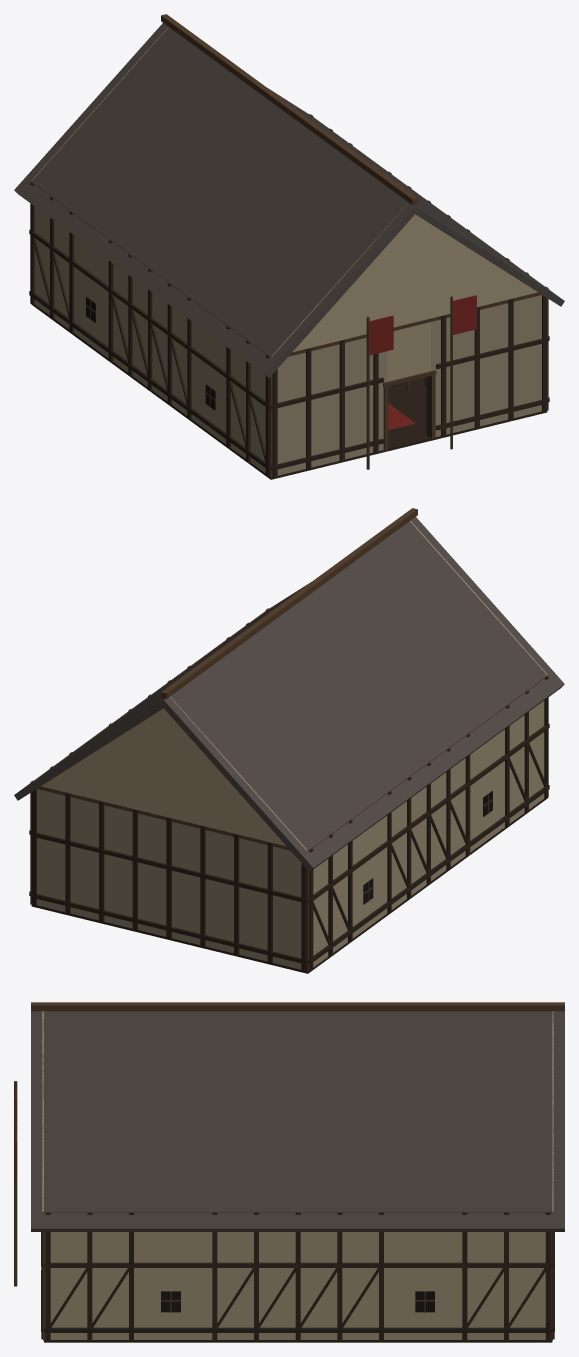
File: walk_hallowed_hall.glb
The picture shows the model from 3 angles, top to bottom: view 1: azimuth 30°, elevation 25°; view 2: azimuth 150°, elevation 25°; view 3: azimuth 270°, elevation 25°; orthographic projection. The views are drawn at different scales.
Parts seen in each view (by area): view 1: walk_hallowed_hall_roof, walk_hallowed_hall; view 2: walk_hallowed_hall_roof, walk_hallowed_hall; view 3: walk_hallowed_hall_roof, walk_hallowed_hall.
Part boxes in pixels (left/top/right/bottom): walk_hallowed_hall_roof: left=14, top=14, right=564, bottom=377; walk_hallowed_hall: left=29, top=113, right=549, bottom=479; walk_hallowed_hall_roof: left=14, top=508, right=564, bottom=871; walk_hallowed_hall: left=29, top=607, right=549, bottom=973; walk_hallowed_hall_roof: left=31, top=1002, right=564, bottom=1231; walk_hallowed_hall: left=14, top=1081, right=554, bottom=1342.
Size of what is drawn, in the model's own units: 13 by 10.44 by 19.51.
2 materials, 2 textured.
